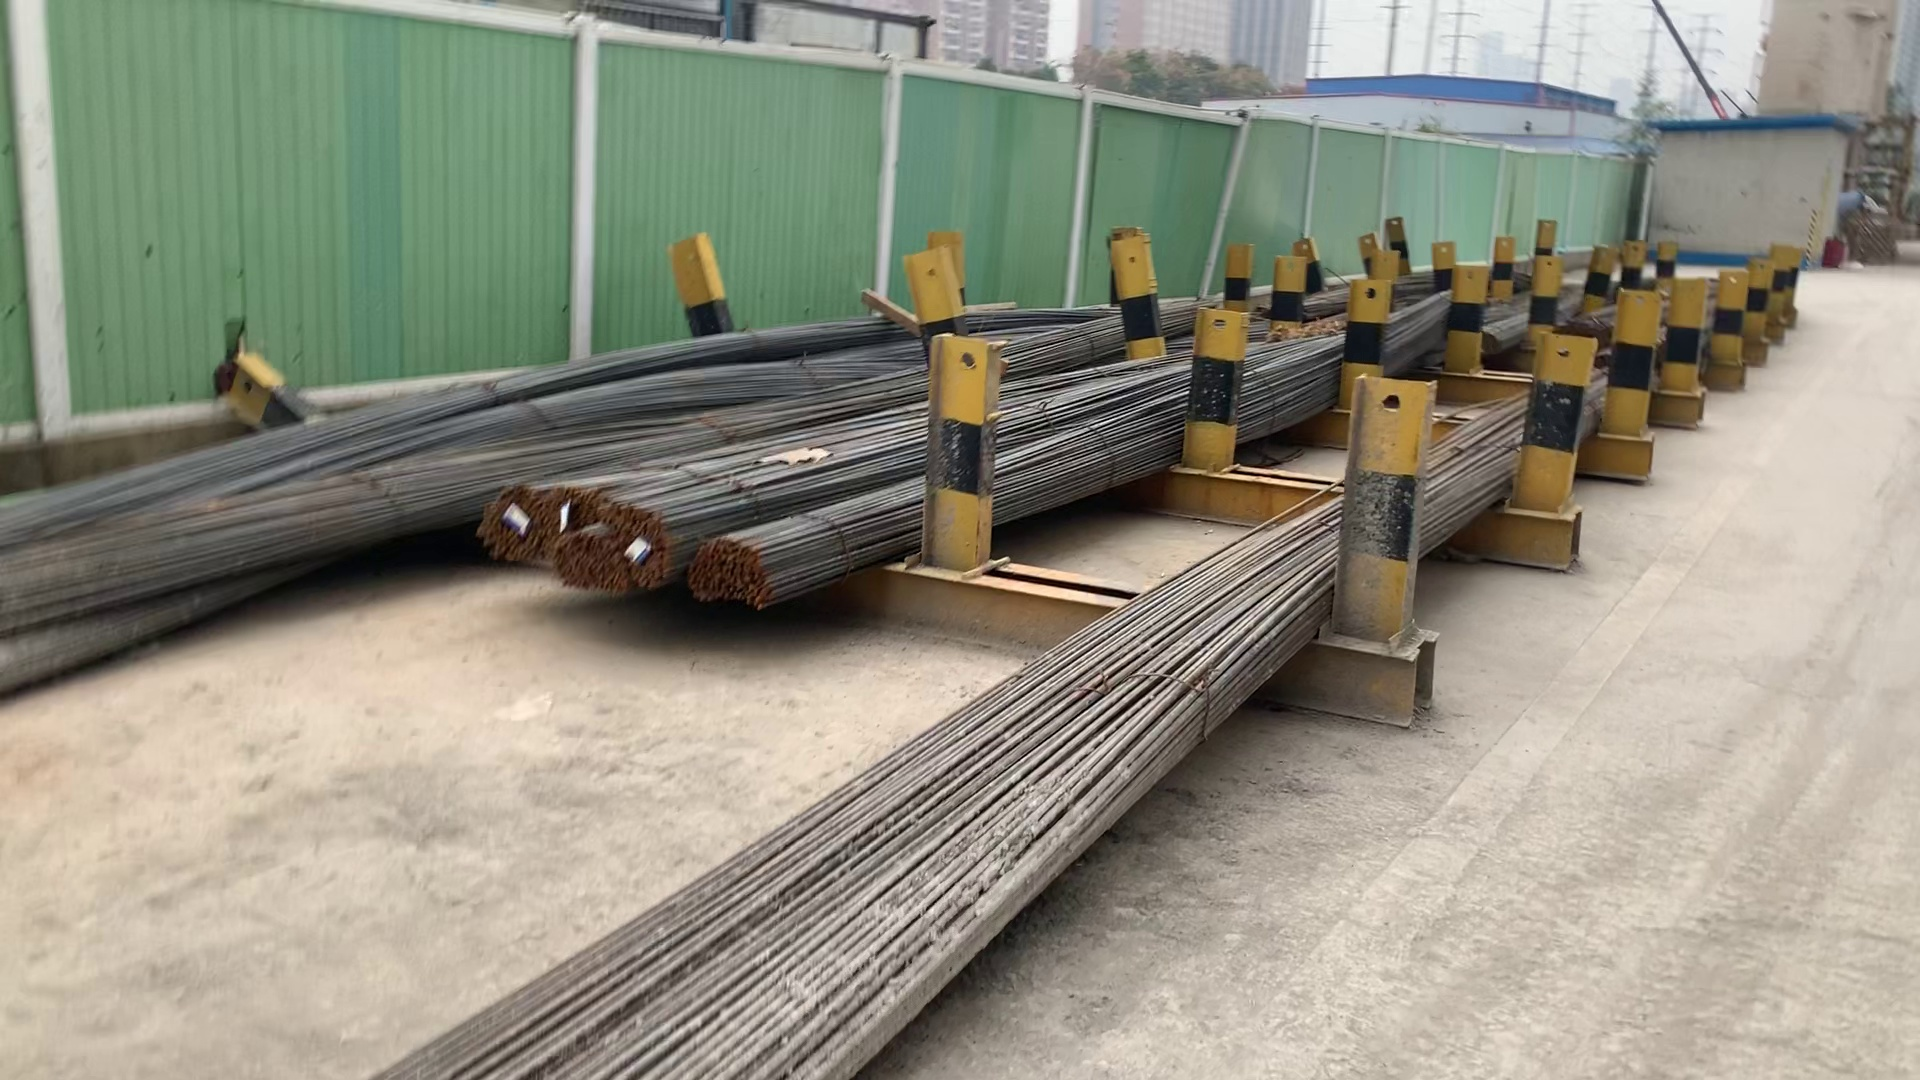rebar: (481, 489, 547, 575), (688, 542, 769, 607), (612, 502, 674, 584), (553, 529, 618, 589), (550, 483, 595, 527)
